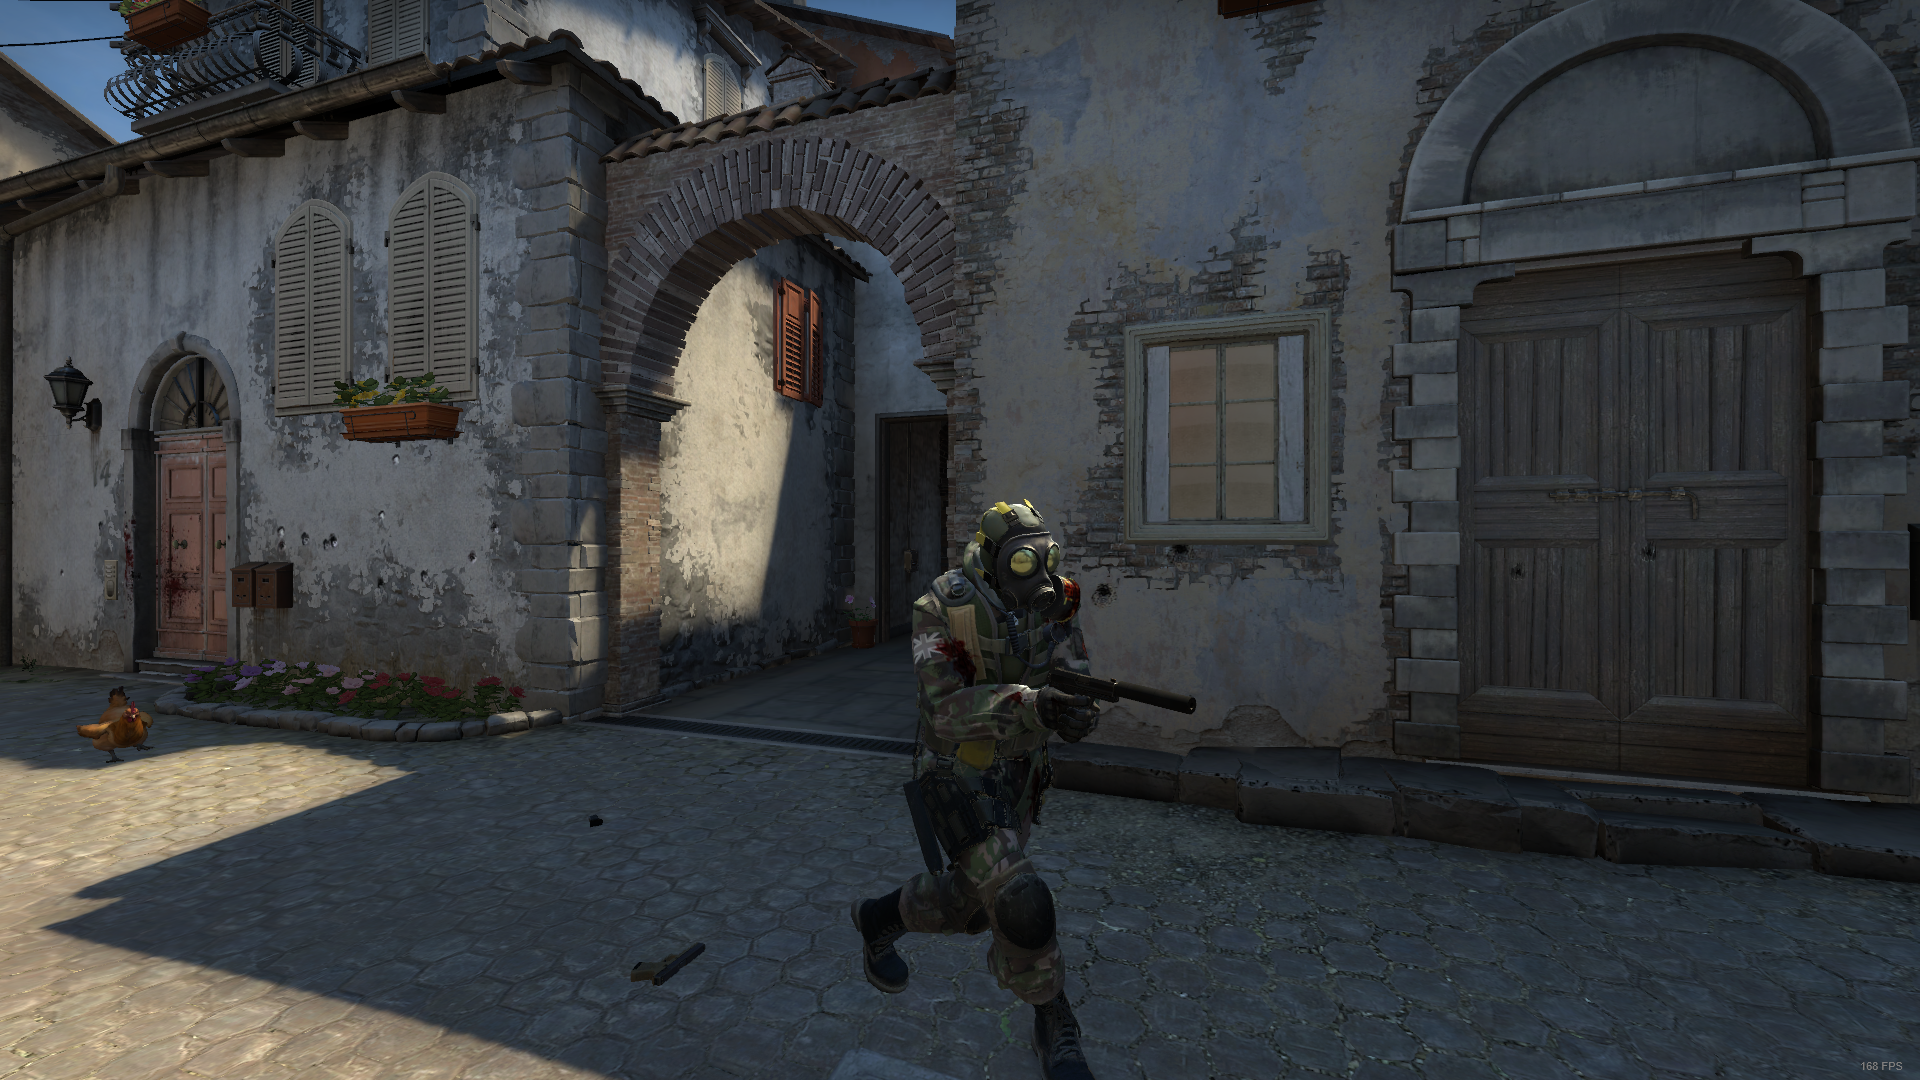t: (848, 497, 1160, 1080)
